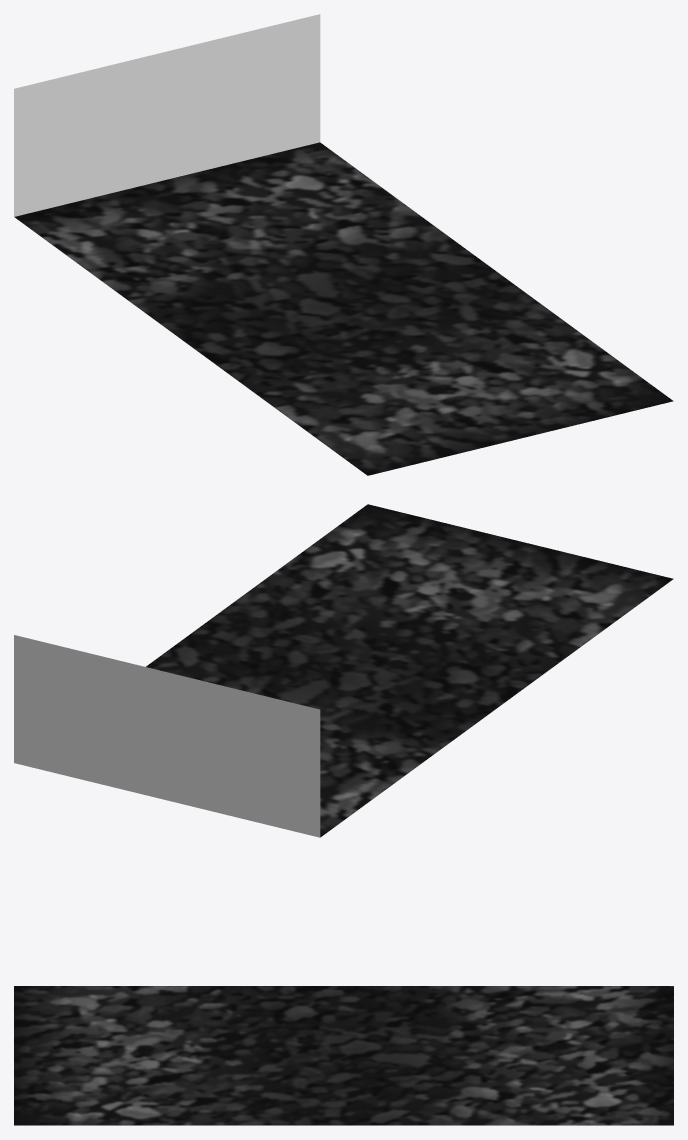
The model's file is sol_rail.fbx.
3 renders of one model, top to bottom at view 1: azimuth 30°, elevation 25°; view 2: azimuth 150°, elevation 25°; view 3: azimuth 270°, elevation 25°, orthographic. The views are drawn at different scales.
Visible parts, largest first — view 1: sol_rail; view 2: sol_rail; view 3: sol_rail.
Boxes of the visible parts, x1=… form: sol_rail: x1=14, y1=14, x2=673, y2=475; sol_rail: x1=14, y1=504, x2=673, y2=837; sol_rail: x1=14, y1=986, x2=673, y2=1125.
Size of the model in its own units: 1 by 0.4 by 2.
